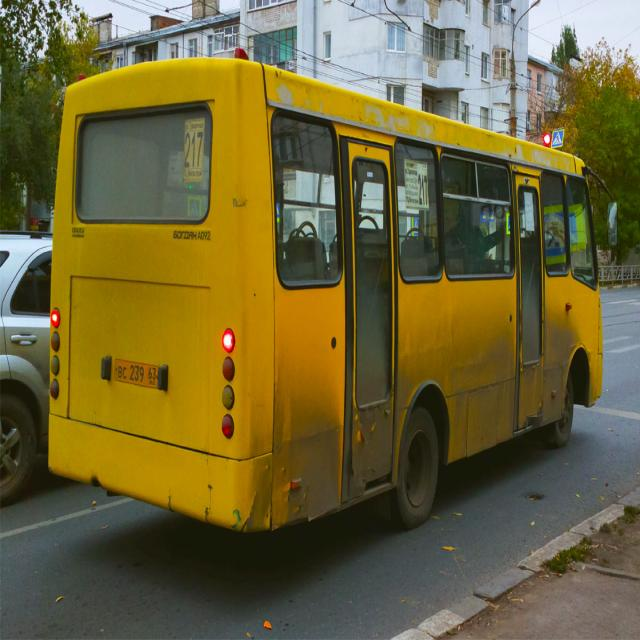number-of-bus: (185, 129, 204, 170), (419, 173, 430, 208)
